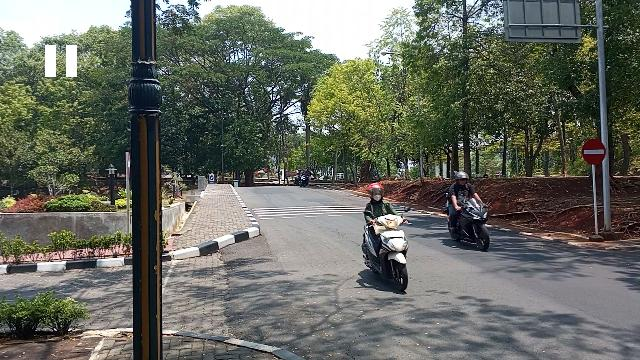helm: (370, 185, 384, 202), (457, 172, 470, 186)
motor: (362, 216, 412, 293), (443, 201, 492, 252)
